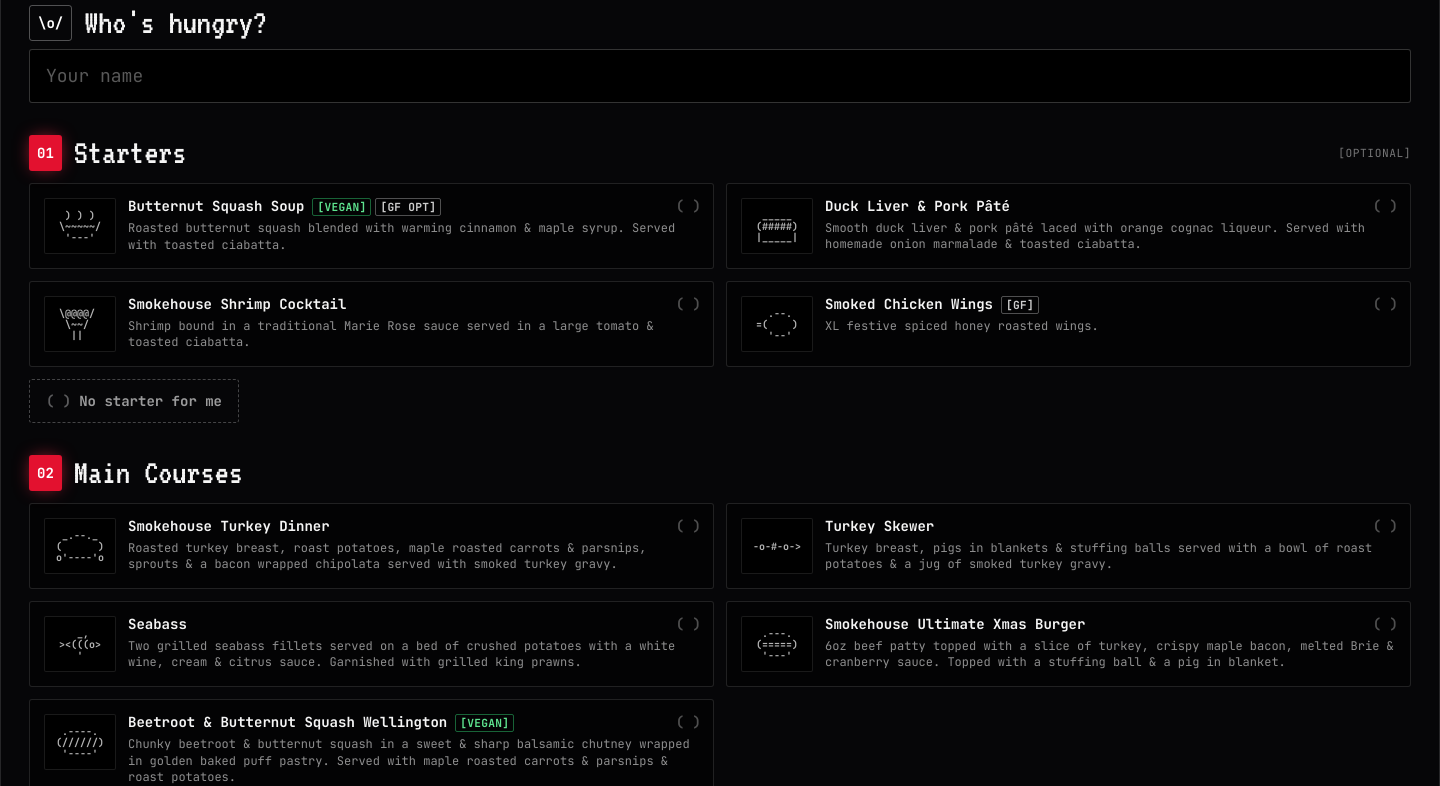
it: OrderForm › submits the chosen dishes and resets afterwards
Type "Amelia" into the field with placeholder "Your name" at coordinates (720, 76), box [29,49,1411,103]
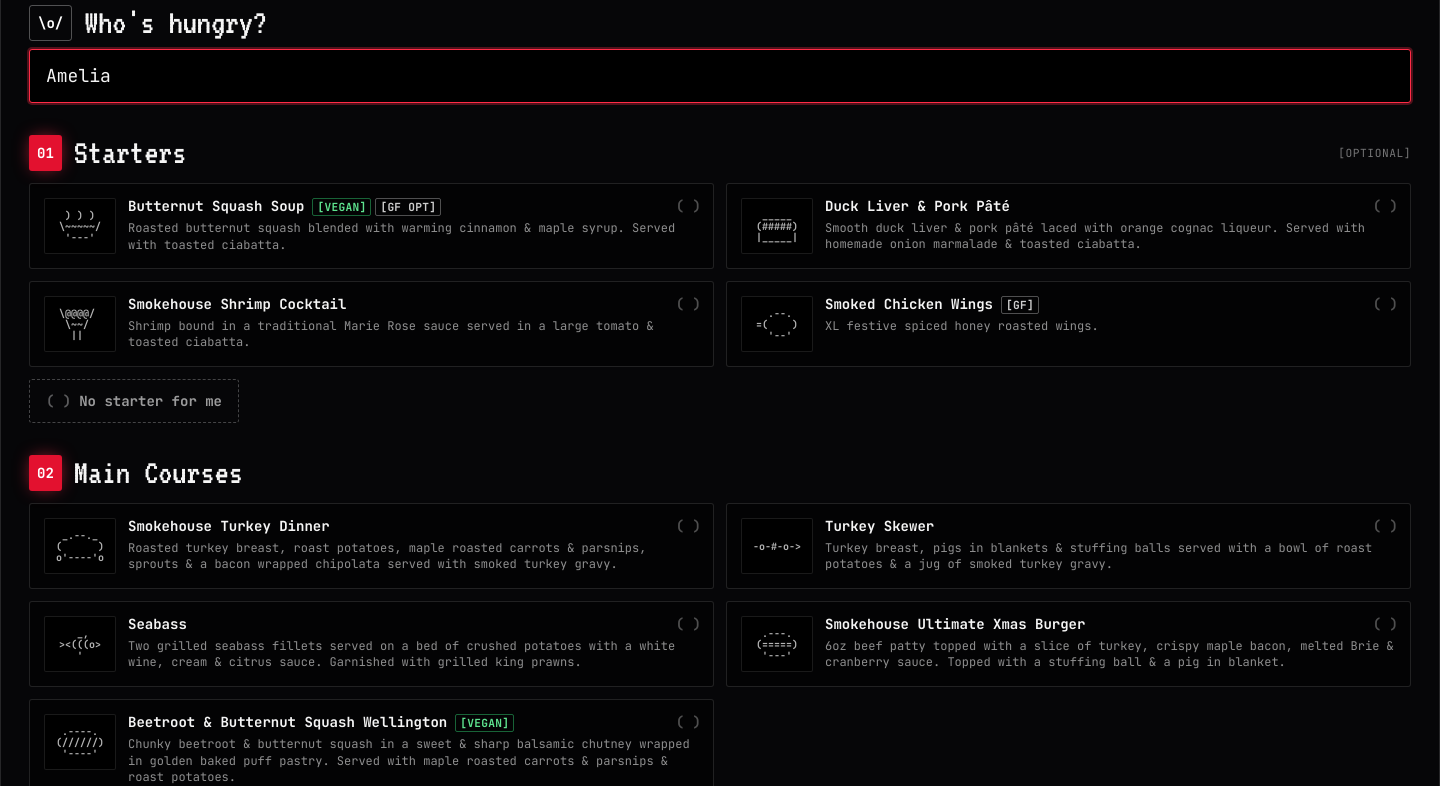
Click the radio button labelled "( ) No starter for me" at coordinates (134, 401), box [29,379,239,423]
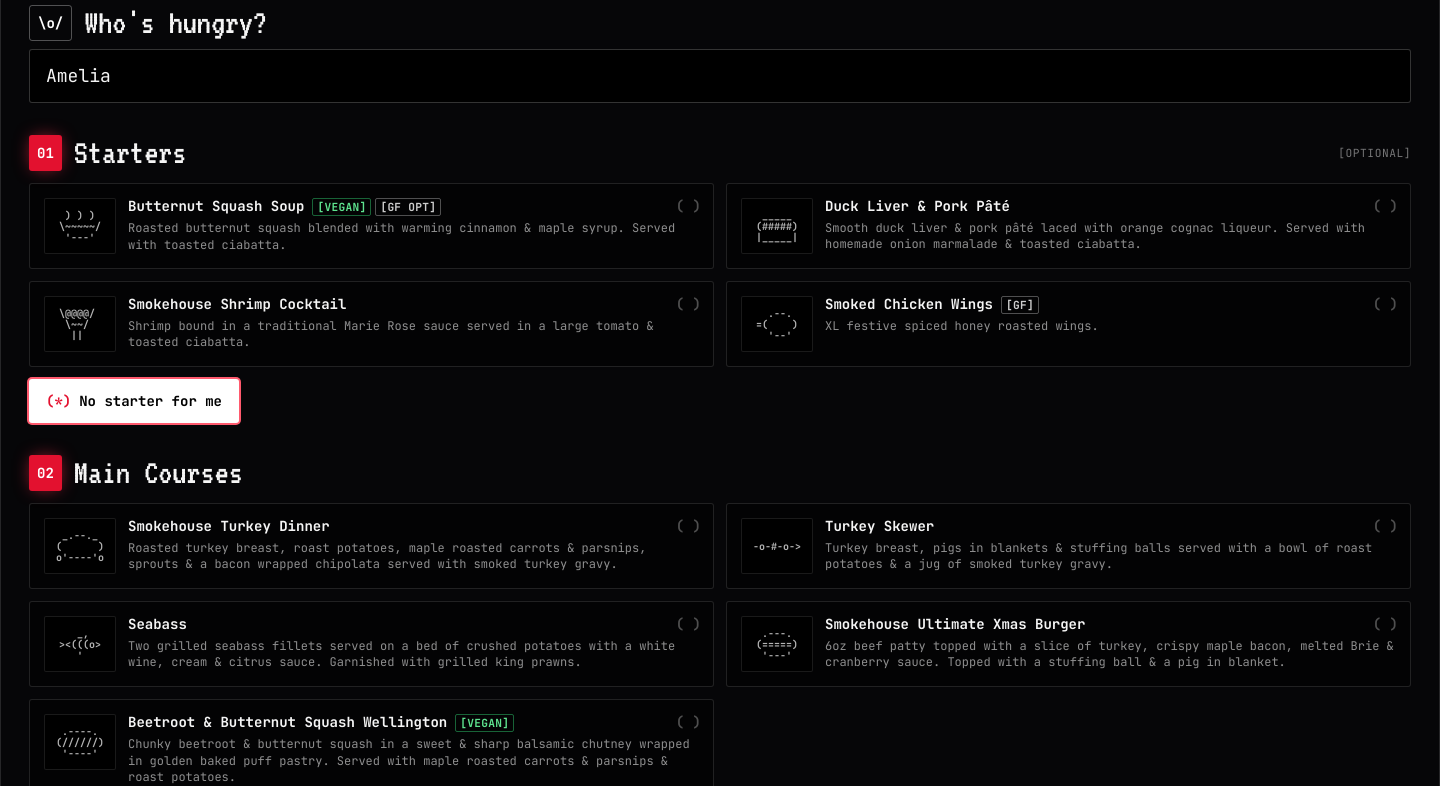
Click the radio button labelled "Seabass" at coordinates (372, 644), box [29,601,714,687]
(page scrolled)
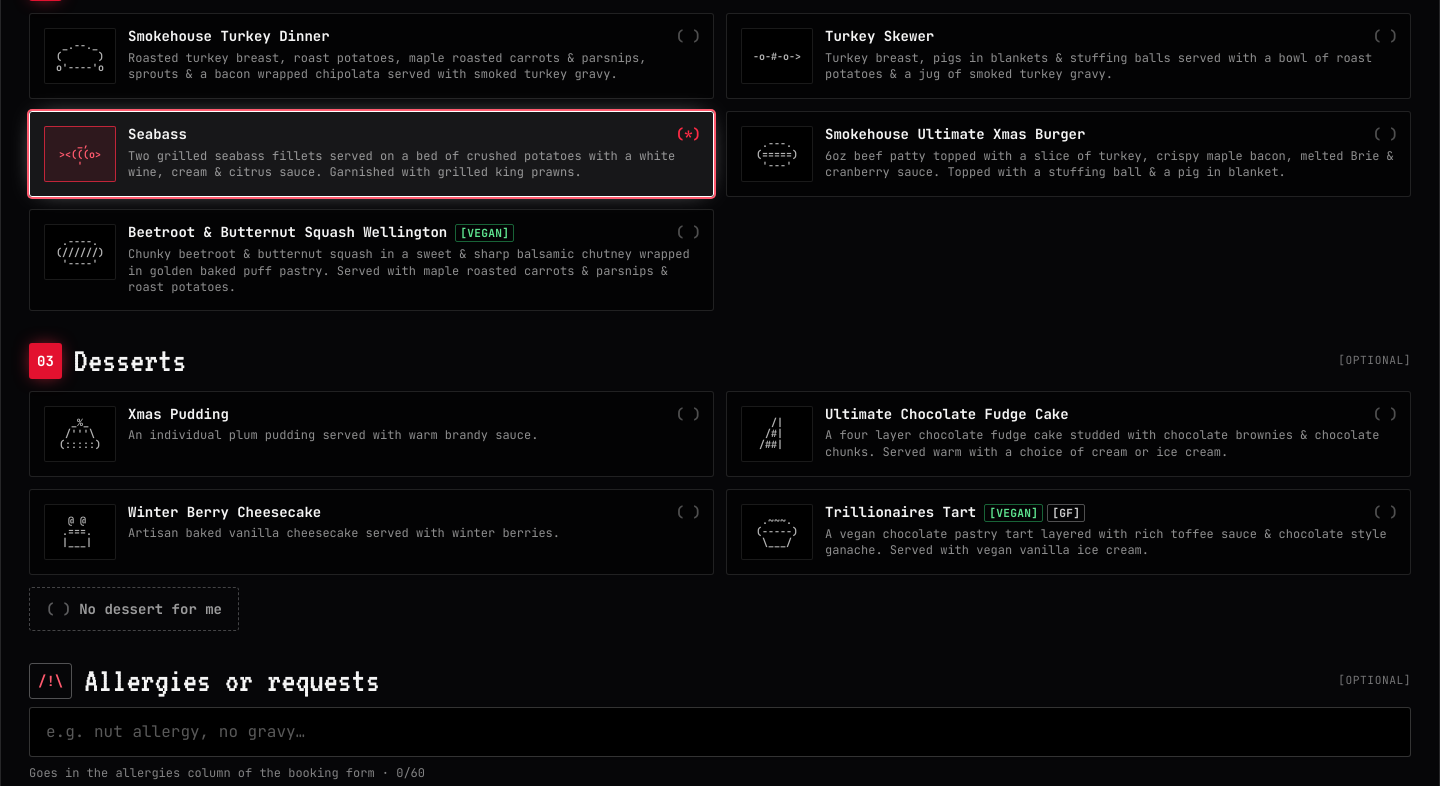
Click the radio button labelled "Xmas Pudding" at coordinates (372, 434), box [29,390,714,476]
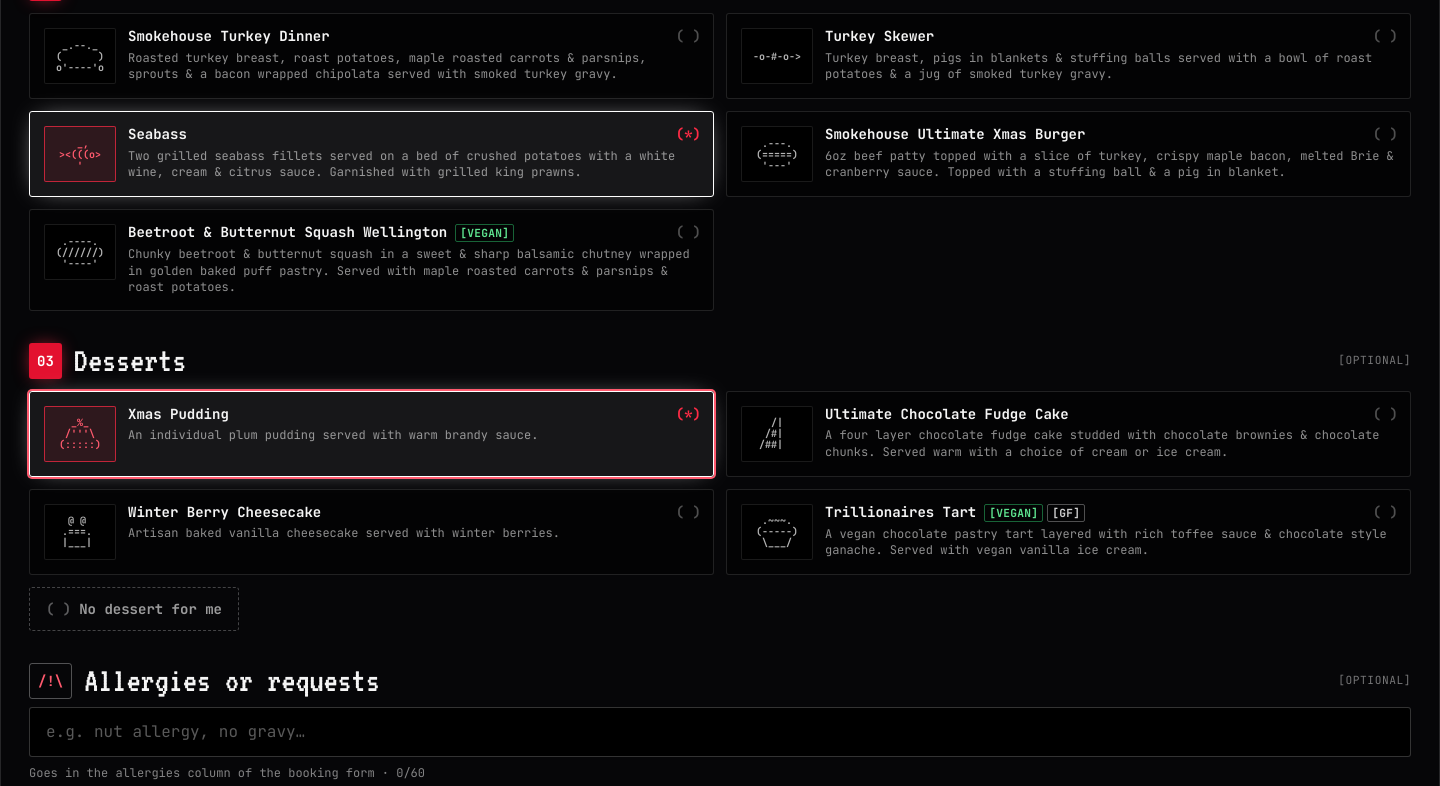
Type "No nuts" into the field with placeholder "e.g. nut allergy, no gravy…" at coordinates (720, 732), box [29,706,1411,756]
(page scrolled)
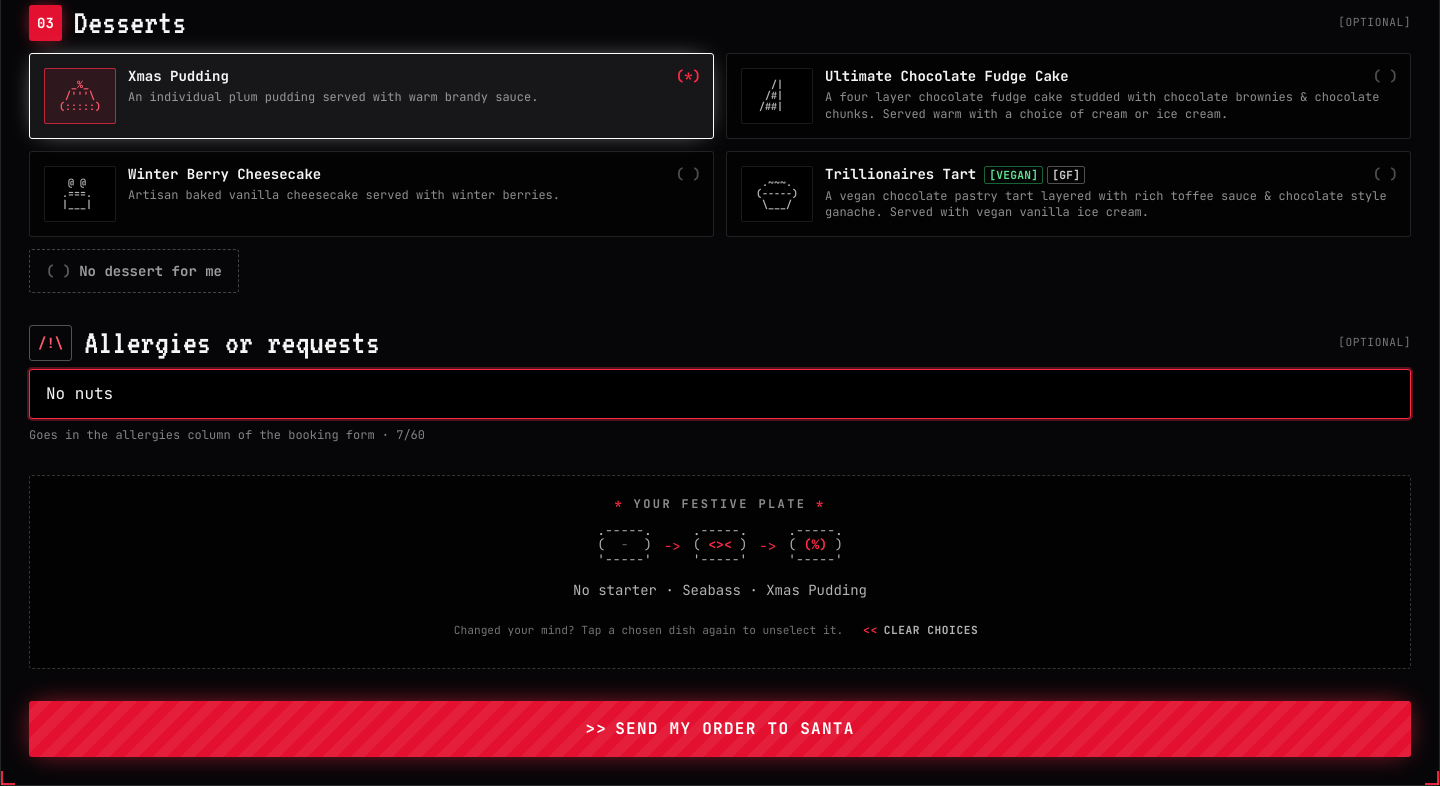
Click the button ">> Send my order to Santa" at coordinates (720, 729), box [29,701,1411,757]
(page scrolled)
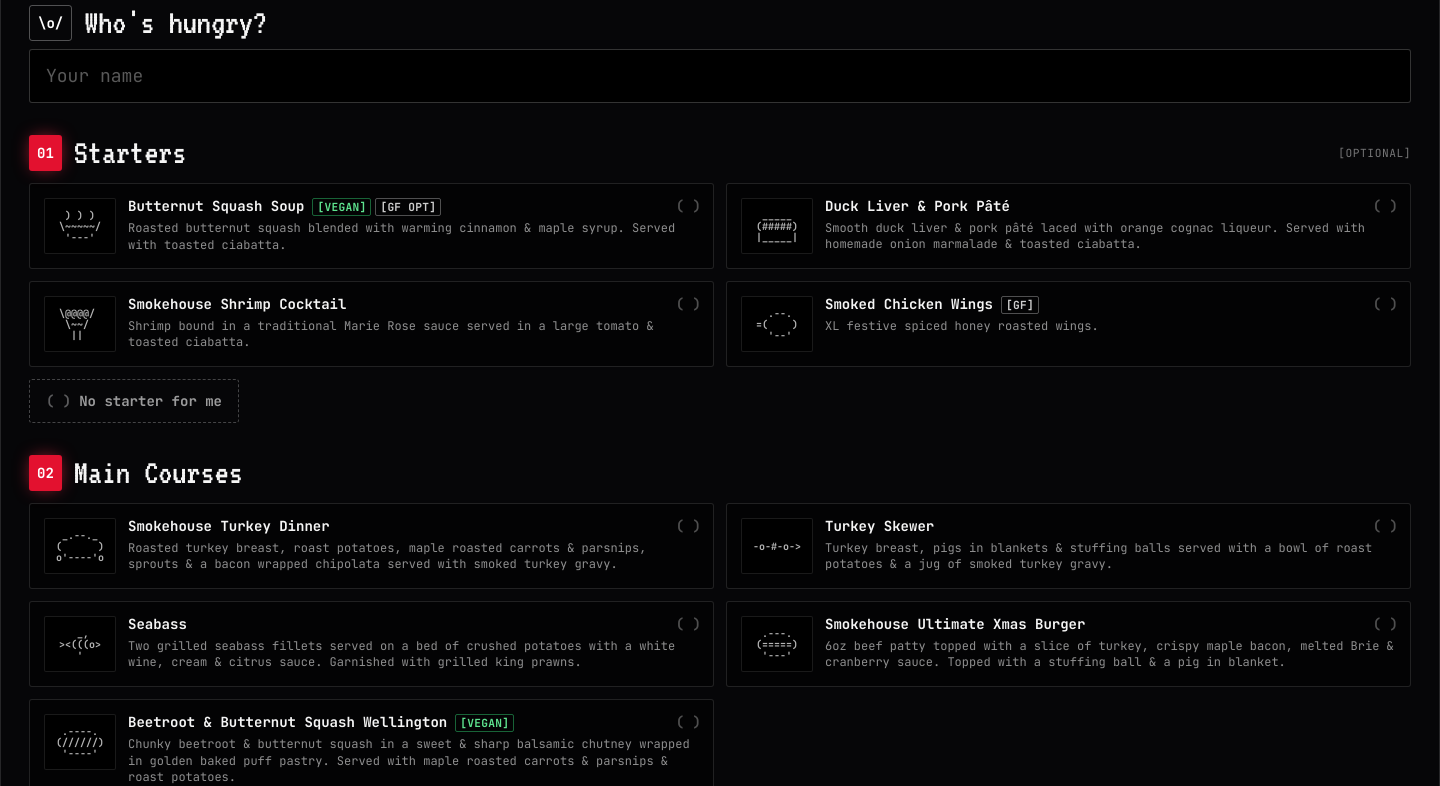
Now the field with placeholder "Your name" is empty, box [29,49,1411,103]
